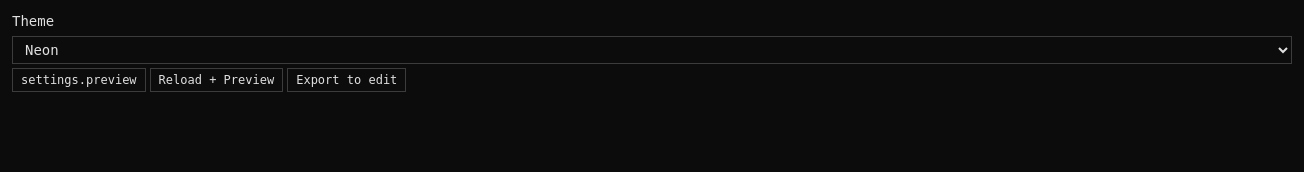
it: ThemeSelect (dropdown) › exports the selected theme to an editable copy and shows the folder
This screenshot has width=1304, height=172.
Click the button with test id "theme-export-button".
click(347, 80)  # box [287,68,406,92]
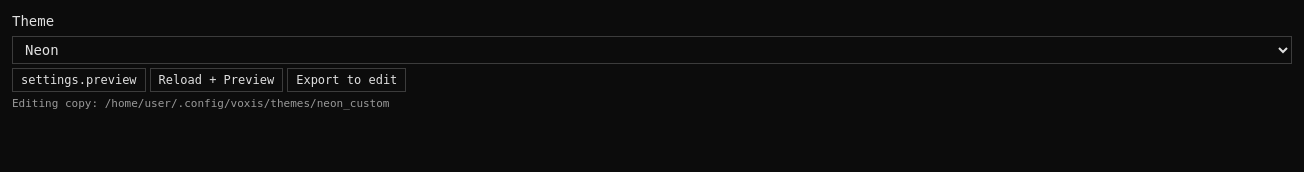
Expected: the dropdown labelled "Theme" shows "Neon", [12,36,1292,64]
Now the message with test id "theme-export-result" shows "/home/user/.config/voxis/themes/neon_custom", box [105,97,390,110]
